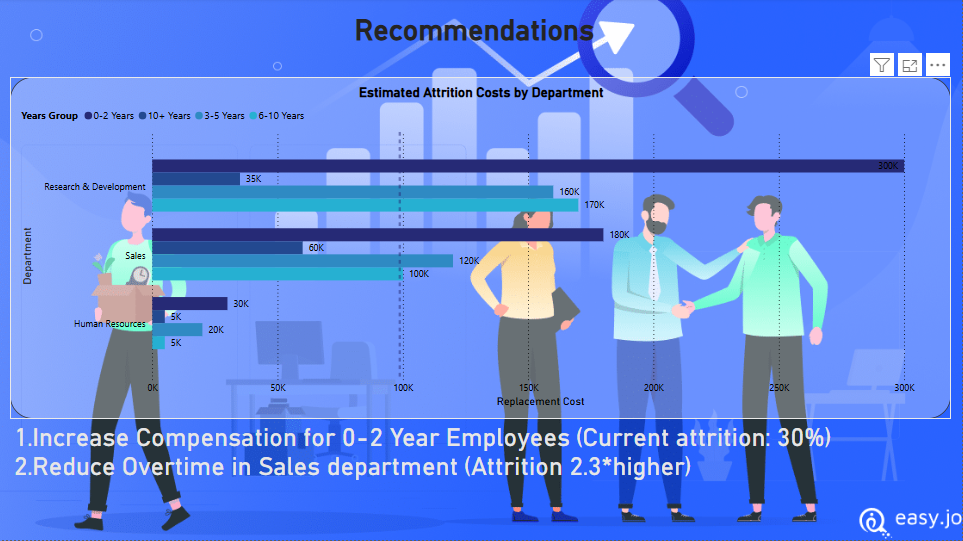

This screenshot's page, from the dashboard's own definition file:
{"tool":"powerbi","page":{"name":"Page 6","canvas":[1280,720],"ordinal":3},"visuals":[{"type":"clusteredBarChart","title":"Estimated Attrition Costs by Department","fields":{"Category":["EmployeeData.Department"],"Y":["EmployeeData.Replacement Cost"],"Series":["EmployeeData.Years Group"]},"box":[14.6,104.9,1250,454.3],"z":0},{"type":"textbox","box":[467.6,14.6,344.1,62.4],"z":1000},{"type":"textbox","box":[14.7,559.3,1250.6,149.7],"z":2000}]}

Visuals, with their boxes in screenshot pixels (x1, y1, x2, y2), scaled from the page's 1280x720 canvas onto the 963x541 screenshot:
"Estimated Attrition Costs by Department" clusteredBarChart: x1=11 y1=79 x2=951 y2=420
textbox: x1=352 y1=11 x2=611 y2=58
textbox: x1=11 y1=420 x2=952 y2=533
